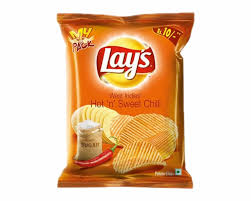lays-med: (58, 11, 194, 191)
